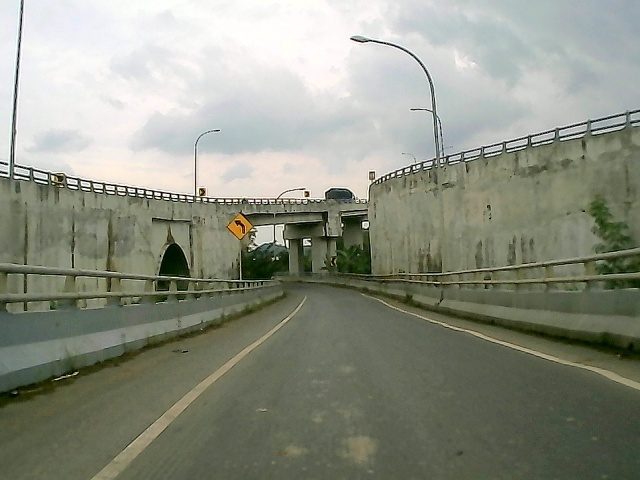Tikungan ke kiri: (224, 211, 256, 243)
